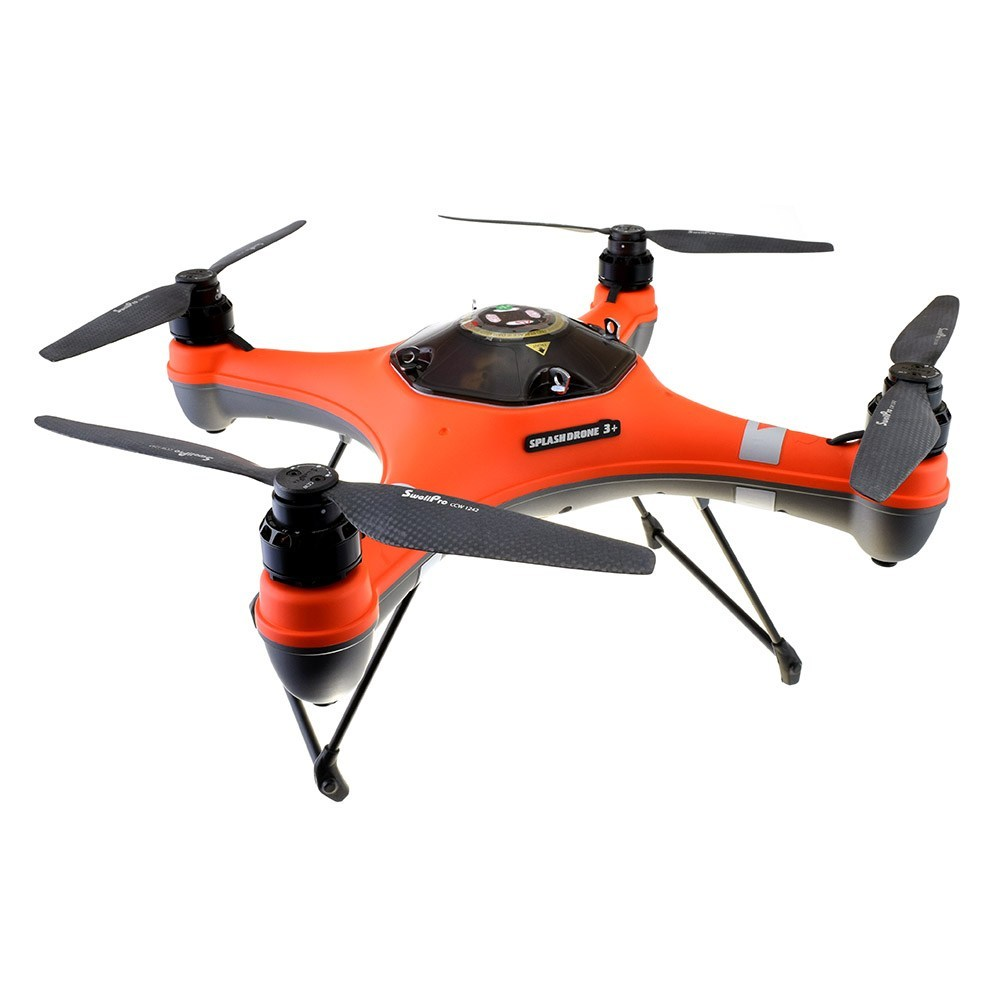drone: (30, 202, 987, 815)
